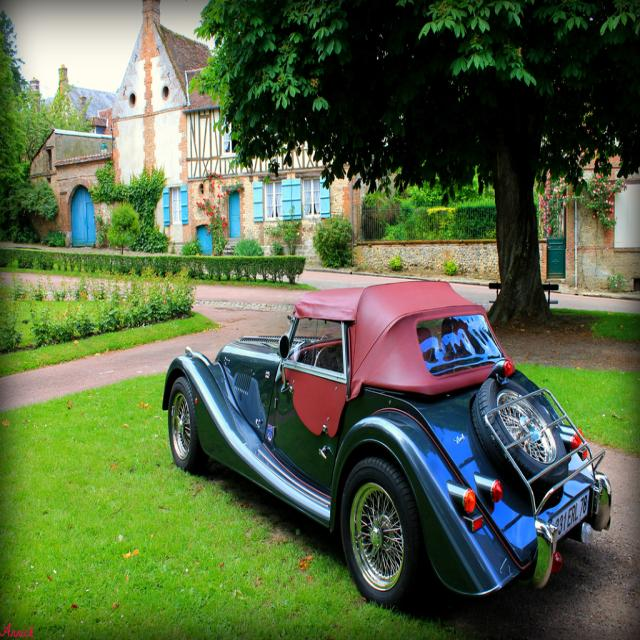Passenger Car: (162, 280, 614, 606)
